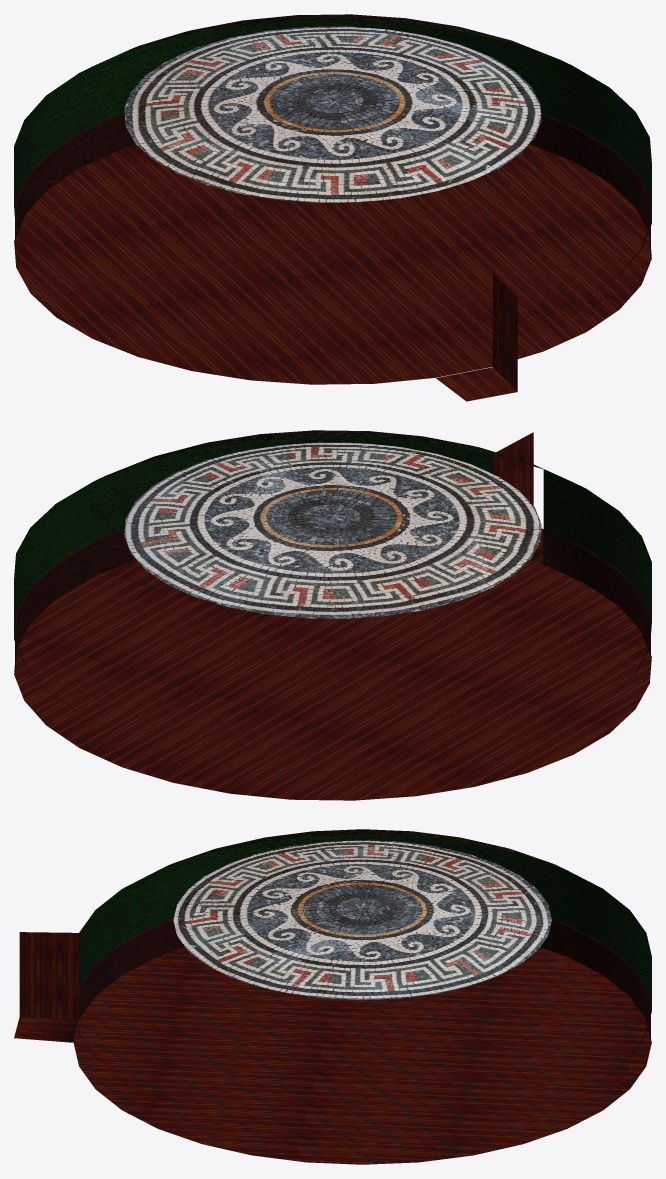
The model's file is Round Room.fbx.
3 views of the same model, one above another, from view 1: azimuth 30°, elevation 25°; view 2: azimuth 150°, elevation 25°; view 3: azimuth 270°, elevation 25° (orthographic). The views are drawn at different scales.
Parts seen in each view (by area): view 1: Cylinder.005, Cylinder.008, Cylinder.006, Cylinder.007; view 2: Cylinder.005, Cylinder.008, Cylinder.006, Cylinder.007; view 3: Cylinder.005, Cylinder.008, Cylinder.006, Cylinder.007.
Boxes of the visible parts, bbox=[...] form: Cylinder.005: bbox=[14, 144, 651, 384]; Cylinder.008: bbox=[86, 14, 572, 202]; Cylinder.006: bbox=[14, 20, 651, 366]; Cylinder.007: bbox=[436, 272, 517, 401]; Cylinder.005: bbox=[14, 560, 651, 800]; Cylinder.008: bbox=[95, 430, 583, 618]; Cylinder.006: bbox=[14, 436, 651, 765]; Cylinder.007: bbox=[493, 432, 543, 563]; Cylinder.005: bbox=[73, 947, 651, 1164]; Cylinder.008: bbox=[159, 829, 565, 999]; Cylinder.006: bbox=[73, 834, 651, 1132]; Cylinder.007: bbox=[14, 932, 78, 1042].
Size of the model in its own units: 1500 by 386 by 1654.
Materials: 5 (5 with a texture image).
